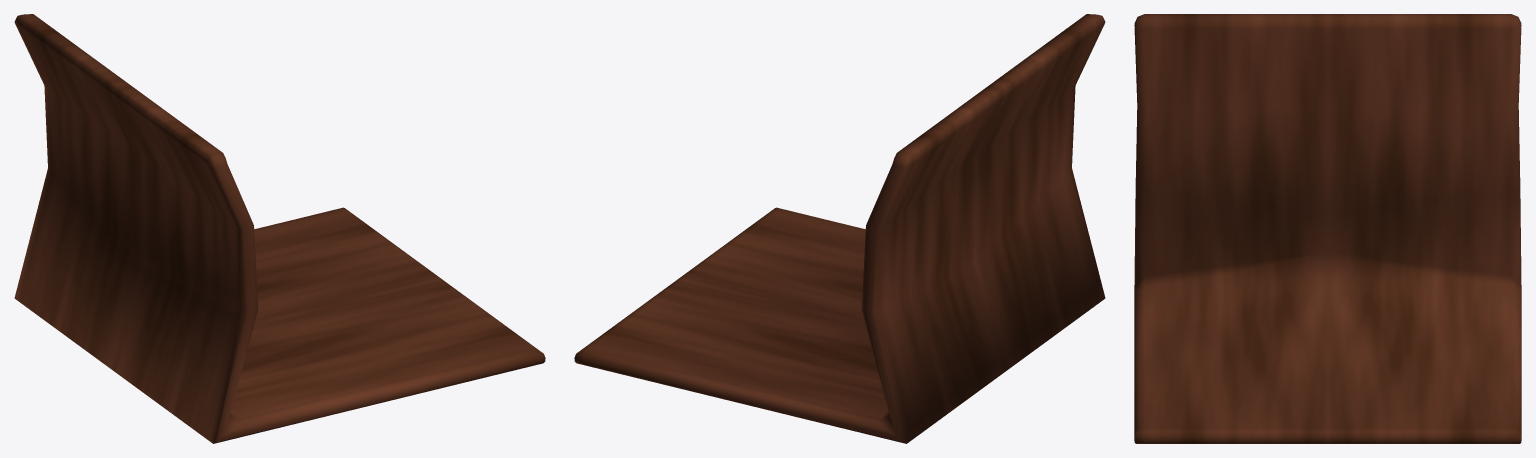
The model's file is zaisu.fbx.
3 views of the same model, side by side, from view 1: azimuth 30°, elevation 25°; view 2: azimuth 150°, elevation 25°; view 3: azimuth 270°, elevation 25° (orthographic). The views are drawn at different scales.
Visible parts, largest first — view 1: Cube; view 2: Cube; view 3: Cube.
Boxes of the visible parts, x1=… form: Cube: x1=14, y1=14, x2=545, y2=443; Cube: x1=574, y1=14, x2=1105, y2=443; Cube: x1=1134, y1=14, x2=1521, y2=443.
Bounding box in the file's own units: 0.4786 × 0.3941 × 0.5.
